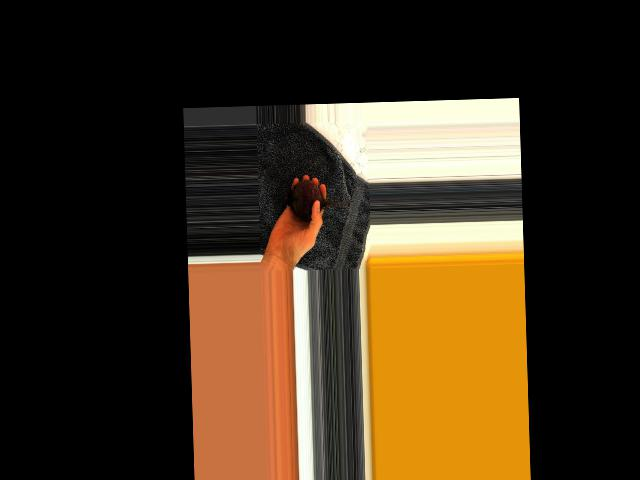beet: (286, 178, 354, 220)
